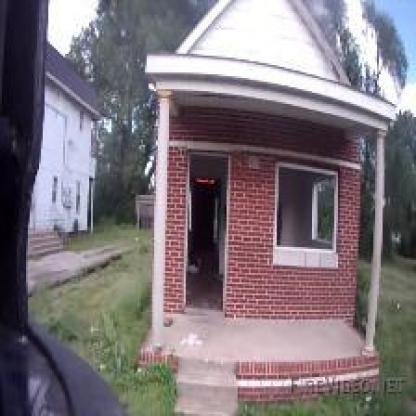other: (160, 118, 352, 328)
